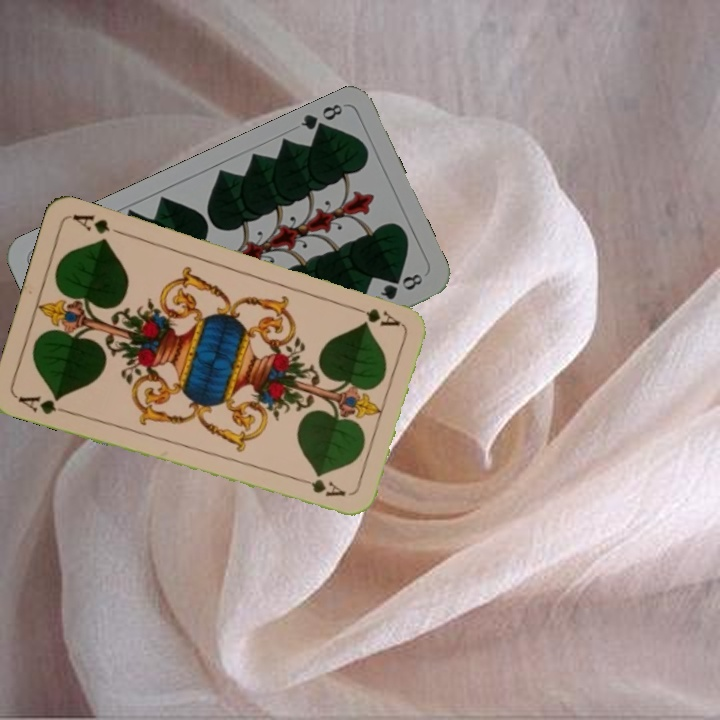G8: (296, 99, 345, 138)
GA: (345, 301, 402, 329), (14, 391, 72, 417)
